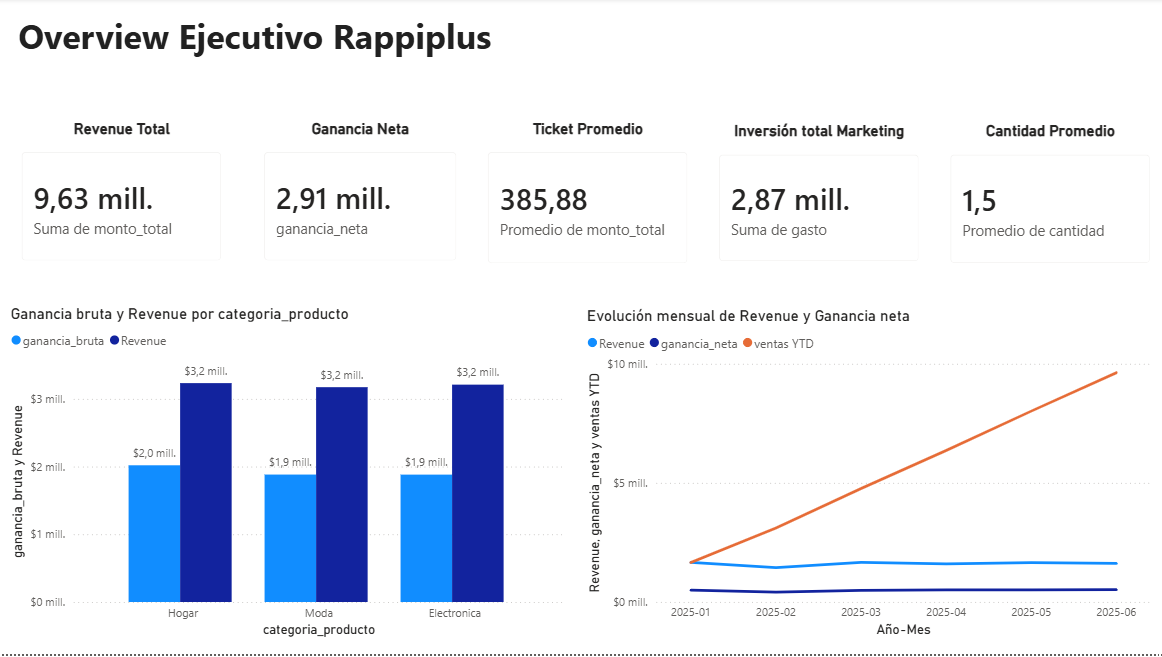

What the dashboard file says about the page in this screenshot:
{"tool":"powerbi","page":{"name":"overview","canvas":[1280,720],"ordinal":0},"visuals":[{"type":"cardVisual","title":"Revenue Total","fields":{"Data":["Sum(orders_clean.monto_total)"]},"box":[7.1,132.6,253.7,172.5],"z":0},{"type":"cardVisual","title":"Inversión total Marketing","fields":{"Data":["Sum(marketing_clean.gasto)"]},"box":[772.6,135.4,253.7,171],"z":1000},{"type":"cardVisual","title":"Ticket Promedio","fields":{"Data":["Avg(orders_clean.monto_total)"]},"box":[518.8,132.6,253.7,175.3],"z":2000},{"type":"cardVisual","title":"Cantidad Promedio","fields":{"Data":["Avg(orders_clean.cantidad)"]},"box":[1026.3,135.4,253.7,172.5],"z":3000},{"type":"cardVisual","title":"Ganancia Neta","fields":{"Data":["orders_clean.ganancia_neta"]},"box":[273.7,132.6,245.2,172.5],"z":4000},{"type":"lineChart","title":"Evolución mensual de Revenue y Ganancia neta","fields":{"Category":["Dim_Fecha.Año-Mes"],"Y":["orders_clean.Revenue","orders_clean.ganancia_neta","orders_clean.ventas YTD"]},"box":[640,339.2,628.6,367.8],"z":5000},{"type":"clusteredColumnChart","title":"Ganancia bruta y Revenue por categoria_producto","fields":{"Y":["orders_clean.ganancia_bruta","orders_clean.Revenue"],"Category":["orders_clean.categoria_producto"]},"box":[7.1,336.4,617.2,370.6],"z":6000},{"type":"textbox","box":[15.7,11.4,756.9,85.5],"z":7002}]}

Visuals, with their boxes in screenshot pixels (x1, y1, x2, y2), scaled from the page's 1280x720 canvas onto the 1162x657 screenshot:
"Revenue Total" cardVisual: (x1=6, y1=121, x2=237, y2=278)
"Inversión total Marketing" cardVisual: (x1=701, y1=124, x2=932, y2=280)
"Ticket Promedio" cardVisual: (x1=471, y1=121, x2=701, y2=281)
"Cantidad Promedio" cardVisual: (x1=932, y1=124, x2=1161, y2=281)
"Ganancia Neta" cardVisual: (x1=248, y1=121, x2=471, y2=278)
"Evolución mensual de Revenue y Ganancia neta" lineChart: (x1=581, y1=310, x2=1152, y2=645)
"Ganancia bruta y Revenue por categoria_producto" clusteredColumnChart: (x1=6, y1=307, x2=567, y2=645)
textbox: (x1=14, y1=10, x2=701, y2=88)
